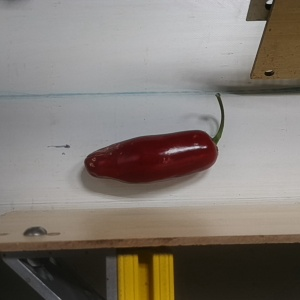Cut Point: (195, 125, 225, 166)
